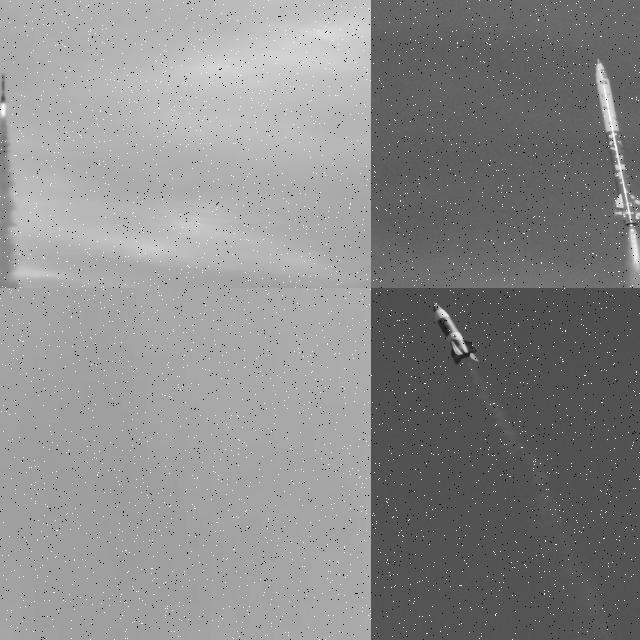Rocket: (592, 57, 640, 228), (431, 300, 481, 366), (0, 74, 6, 102)
